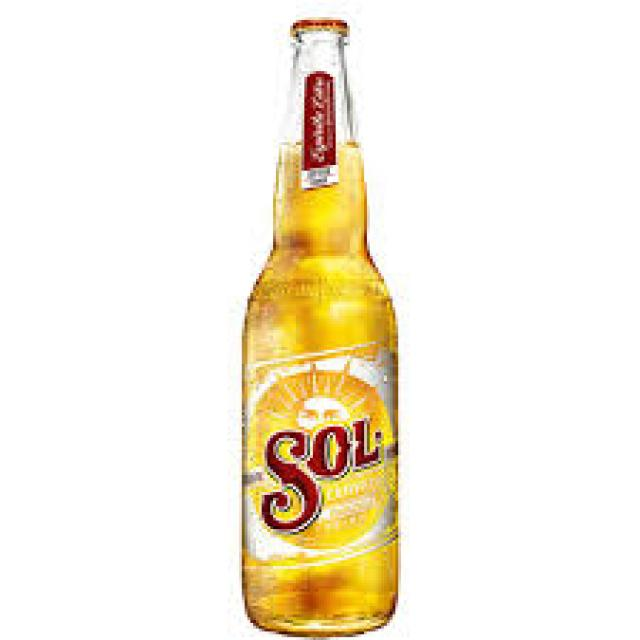glass: (236, 26, 398, 637)
metal: (290, 14, 344, 26)
